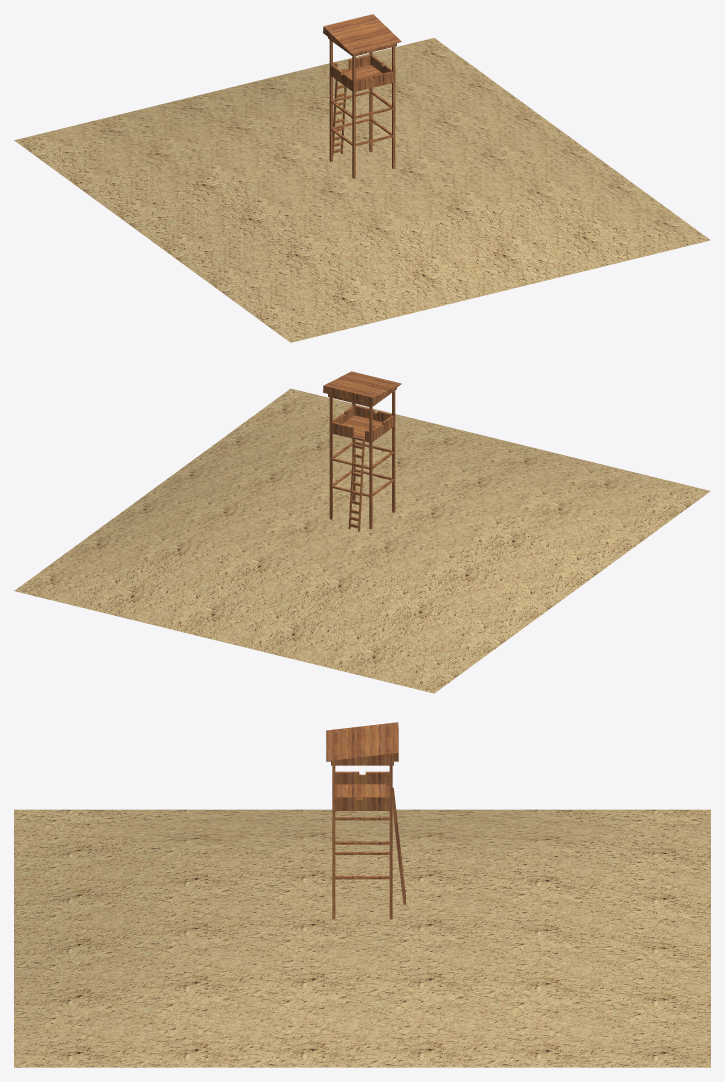
The model's file is Guard Tower  fbx.FBX.
The picture shows the model from 3 angles, top to bottom: view 1: azimuth 30°, elevation 25°; view 2: azimuth 150°, elevation 25°; view 3: azimuth 270°, elevation 25°; orthographic projection. The views are drawn at different scales.
Visible parts, largest first — view 1: ter, Guard Tower; view 2: ter, Guard Tower; view 3: ter, Guard Tower.
Boxes of the visible parts, <box> form: ter: <box>14,38,710,342</box>; Guard Tower: <box>323,14,401,178</box>; ter: <box>14,388,710,693</box>; Guard Tower: <box>323,371,401,531</box>; ter: <box>14,809,710,1067</box>; Guard Tower: <box>326,722,406,919</box>.
Bounding box in the file's own units: 261 × 298 × 94.81.
